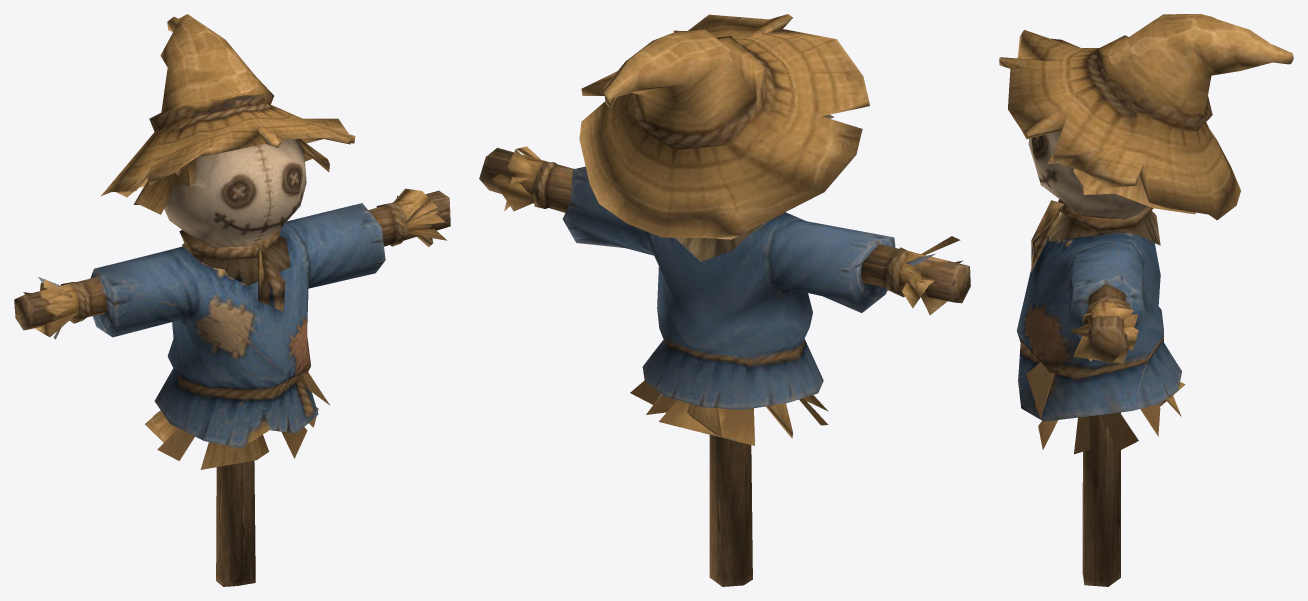
The model's file is scarecrow.glb.
3 views of the same model, side by side, from view 1: azimuth 30°, elevation 25°; view 2: azimuth 150°, elevation 25°; view 3: azimuth 270°, elevation 25° (orthographic). The views are drawn at different scales.
Visible parts, largest first — view 1: scarecrow; view 2: scarecrow; view 3: scarecrow.
Part boxes in pixels (x1,y1,x2,y2): scarecrow: [14, 14, 450, 586]; scarecrow: [479, 14, 970, 586]; scarecrow: [999, 14, 1293, 586].
Size of the model in its own units: 1.25 by 1.45 by 0.6874.
Materials: 1 (1 with a texture image).
